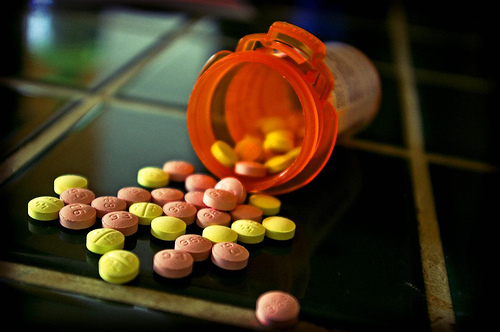pill bottle: (184, 33, 383, 197)
